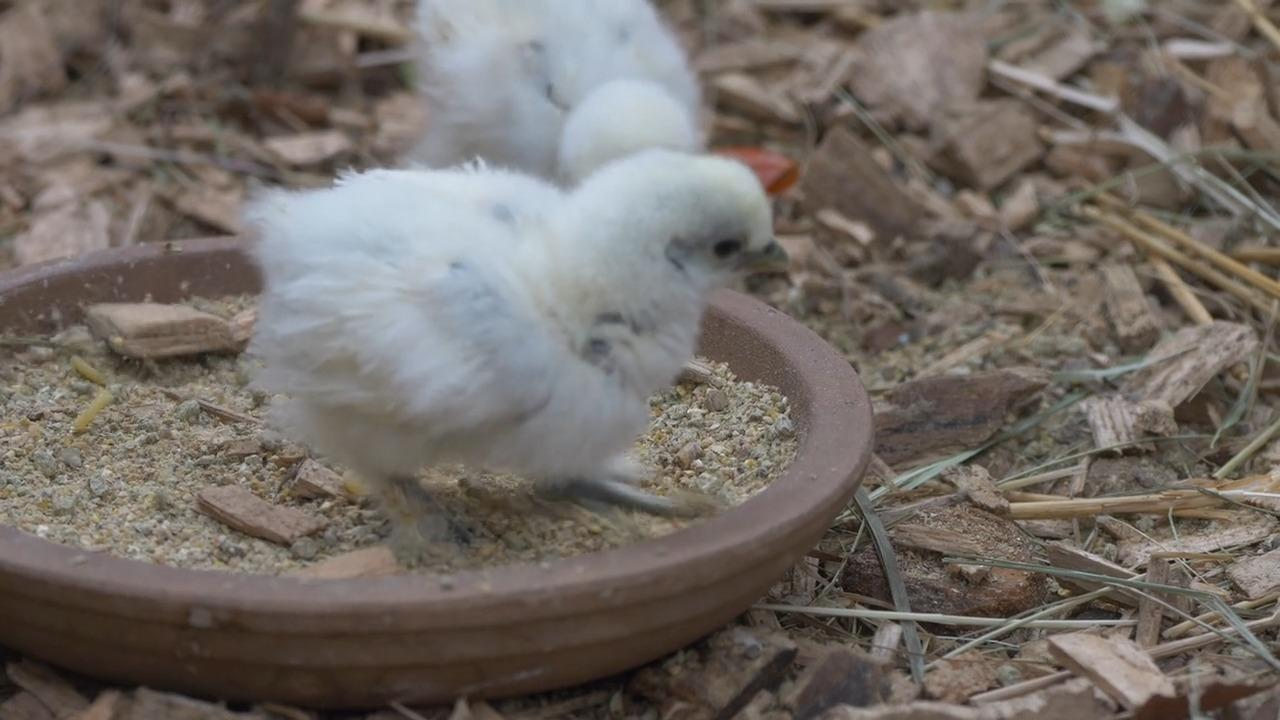Normal: (220, 145, 790, 534)
